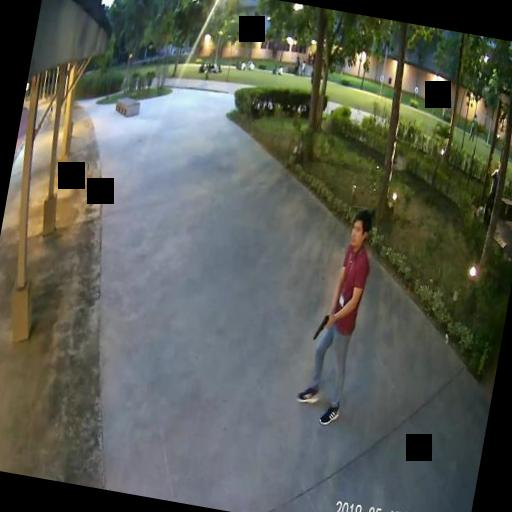Handgun: (312, 308, 332, 340)
